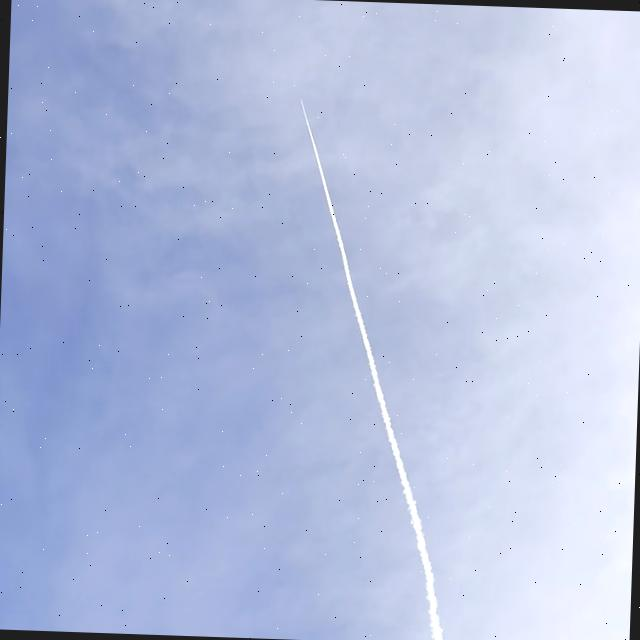smoke_trail_no_rocket: (299, 105, 443, 640)
